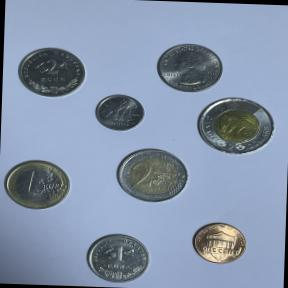1 Euro: (0, 154, 73, 214)
2 Euro: (112, 144, 194, 208)
Canda-10cent-: (91, 90, 148, 134)
Canda-2Dollar-: (194, 93, 276, 159)
Croatia-2Kune-: (14, 43, 90, 101)
US-1cent-: (186, 217, 250, 268)
US-25cent-: (150, 38, 226, 96)
